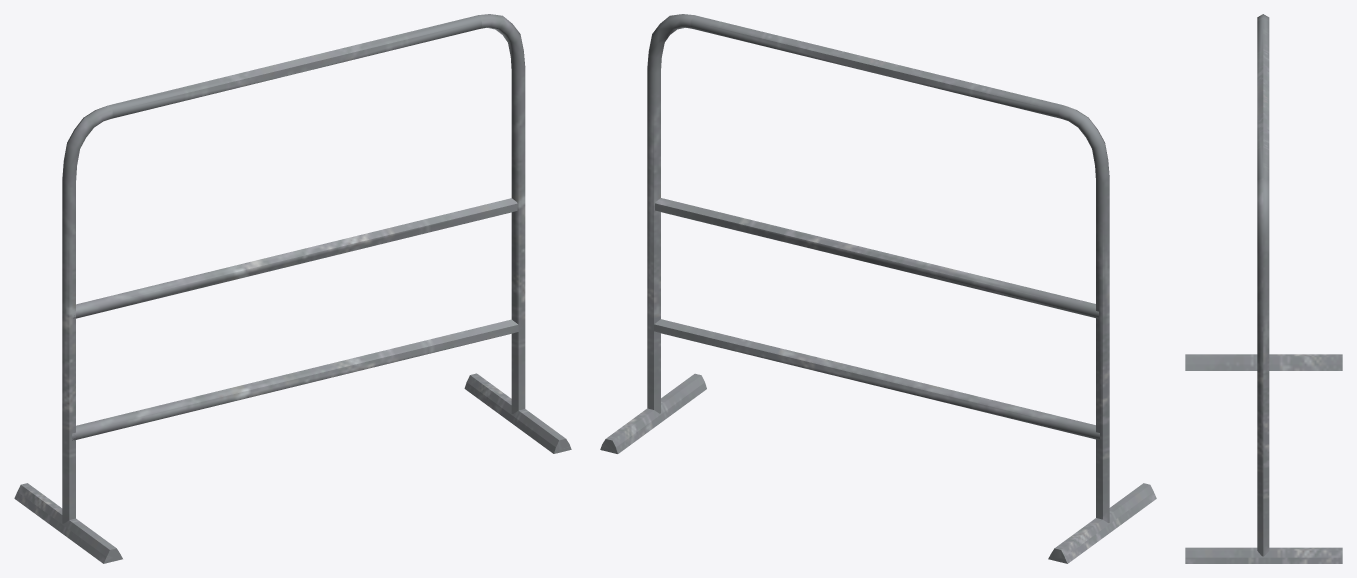
File: sm21_007_signboard01a.fbx
3 renders of one model, left to right at view 1: azimuth 30°, elevation 25°; view 2: azimuth 150°, elevation 25°; view 3: azimuth 270°, elevation 25°, orthographic. The views are drawn at different scales.
Parts seen in each view (by area): view 1: LOD_1_Group_0_Sub_1__sm21_007_SignBoard01A_A_Mat; view 2: LOD_1_Group_0_Sub_1__sm21_007_SignBoard01A_A_Mat; view 3: LOD_1_Group_0_Sub_1__sm21_007_SignBoard01A_A_Mat.
Part boxes in pixels (x1=…): LOD_1_Group_0_Sub_1__sm21_007_SignBoard01A_A_Mat: x1=14, y1=14, x2=571, y2=563; LOD_1_Group_0_Sub_1__sm21_007_SignBoard01A_A_Mat: x1=600, y1=14, x2=1156, y2=563; LOD_1_Group_0_Sub_1__sm21_007_SignBoard01A_A_Mat: x1=1185, y1=14, x2=1342, y2=563.
Bounding box in the file's own units: 1.43 × 1.21 × 0.4712.
